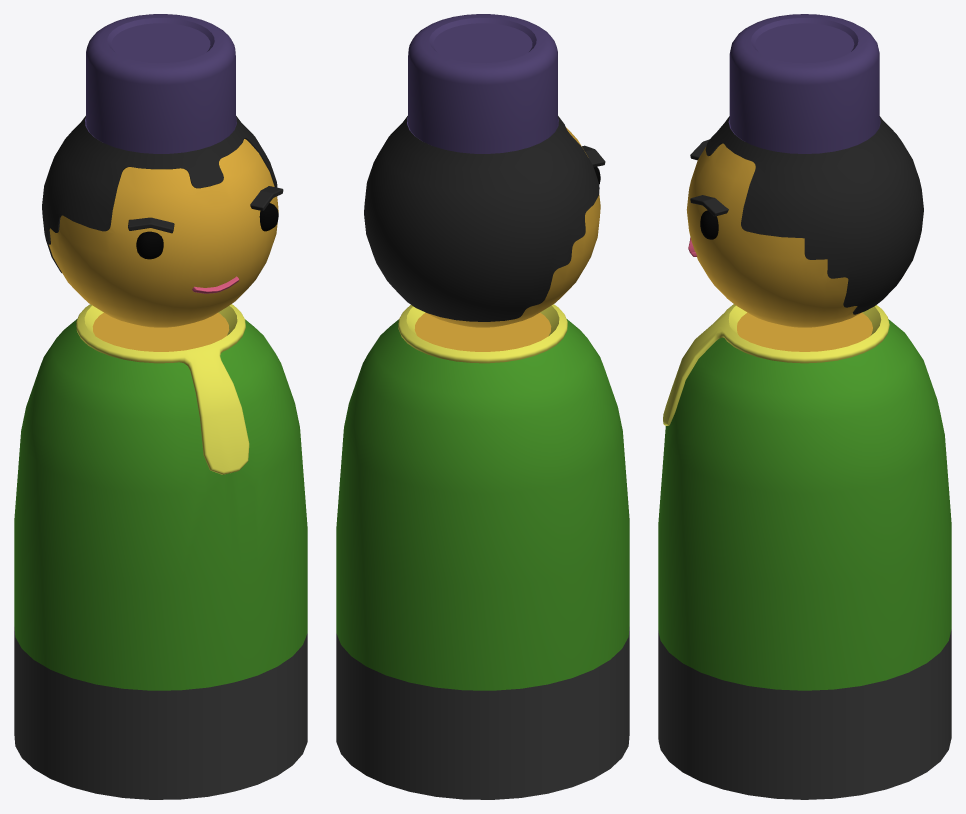
Rendered from MP_Neighbour_Hakim_Model.fbx.
The picture shows the model from 3 angles, left to right: view 1: azimuth 30°, elevation 25°; view 2: azimuth 150°, elevation 25°; view 3: azimuth 270°, elevation 25°; orthographic projection.
Parts seen in each view (by area): view 1: Hakim_Boy, Hakim_Head, Hakim_Eyes, Hakim_Eyebrows; view 2: Hakim_Boy, Hakim_Head; view 3: Hakim_Boy, Hakim_Head, Hakim_Eyebrows.
Boxes of the visible parts, <box> form: Hakim_Boy: <box>14,304,307,799</box>; Hakim_Head: <box>42,14,278,327</box>; Hakim_Eyes: <box>136,203,278,259</box>; Hakim_Eyebrows: <box>128,186,283,233</box>; Hakim_Boy: <box>336,304,629,799</box>; Hakim_Head: <box>364,14,600,327</box>; Hakim_Boy: <box>658,304,951,799</box>; Hakim_Head: <box>686,14,923,327</box>; Hakim_Eyebrows: <box>690,139,728,216</box>.
Size of the model in its own units: 170 by 445 by 170.
